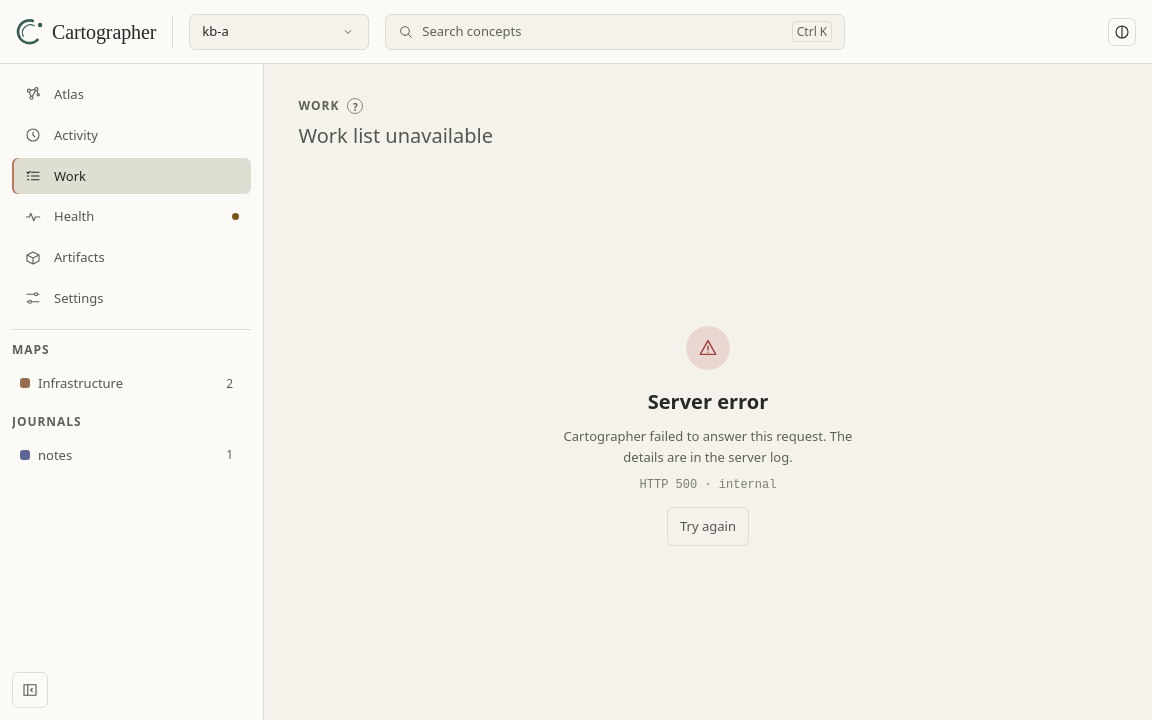
Test case: the work page on a failed fetch › shows an ErrorState and retries
The image size is (1152, 720).
Expected: the text "Server error" is shown, left=648, top=386, right=768, bottom=418
Expected: the heading "Work list unavailable" is shown, left=298, top=123, right=493, bottom=148
Click the button "Try again": (708, 527) left=667, top=507, right=749, bottom=546
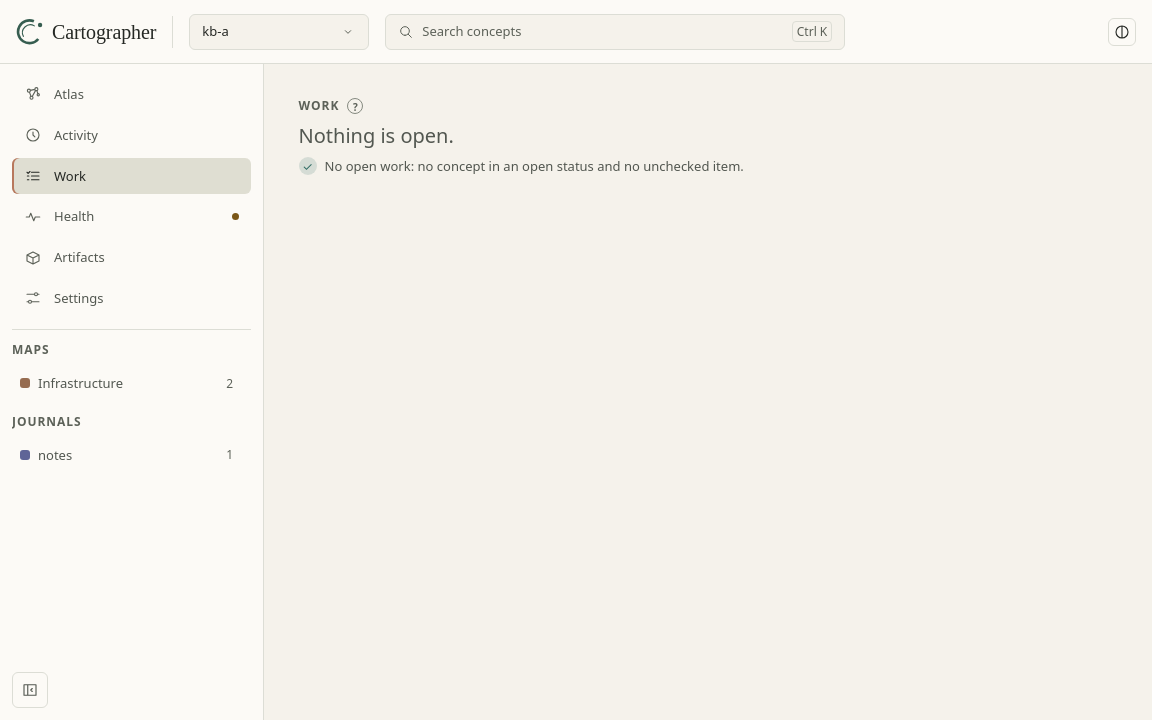
Expected: the text "Server error" is gone
